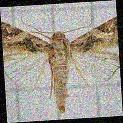Spodoptera litura: (4, 10, 120, 114)
